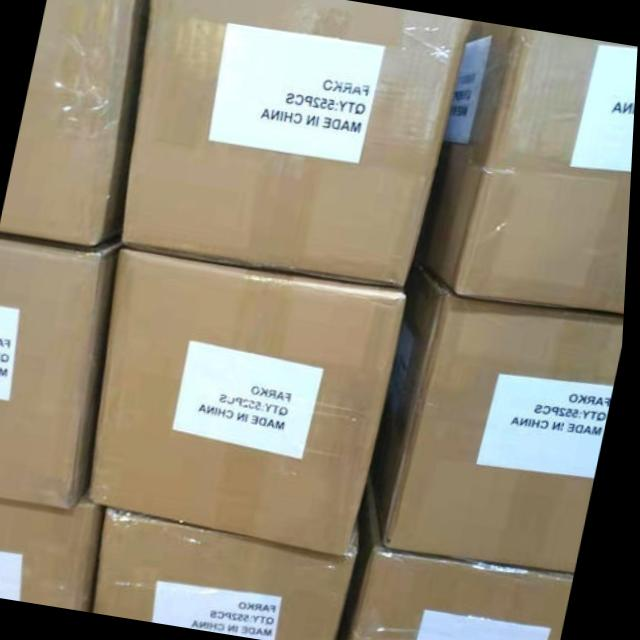box: (123, 0, 473, 289), (93, 249, 409, 559), (375, 259, 627, 575), (419, 21, 638, 315), (0, 0, 148, 249), (352, 483, 580, 640), (101, 510, 363, 640), (0, 238, 117, 513), (0, 499, 110, 613)
